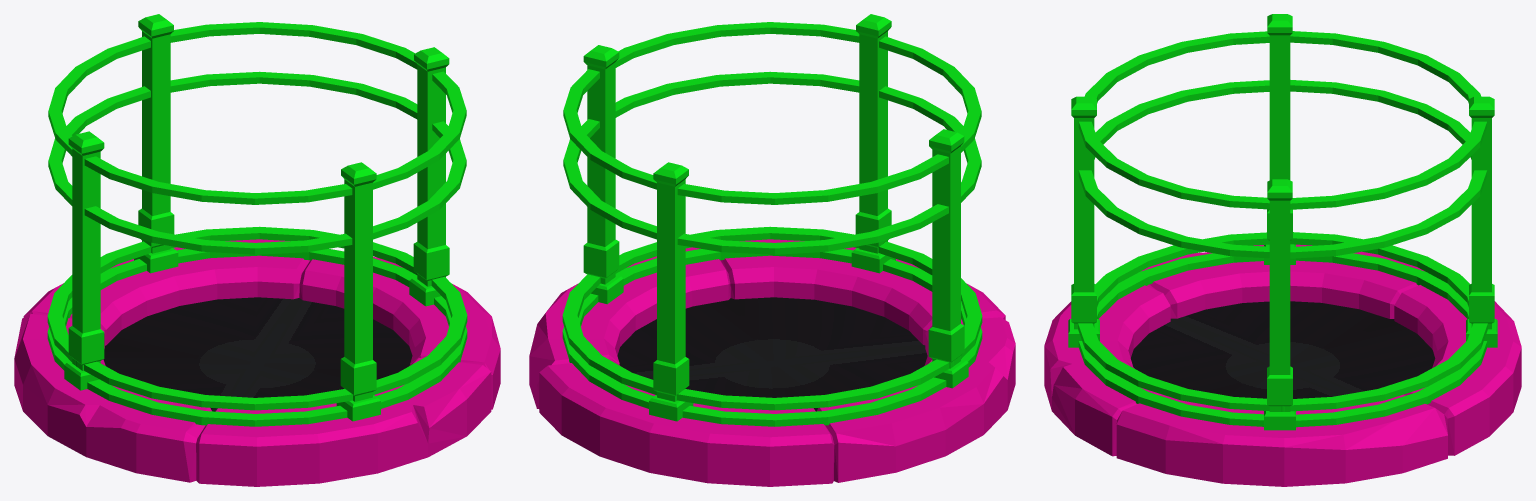
Rendered from City_Fence15.fbx.
3 renders of one model, left to right at view 1: azimuth 30°, elevation 25°; view 2: azimuth 150°, elevation 25°; view 3: azimuth 270°, elevation 25°, orthographic.
Visible parts, largest first — view 1: SM_City_Fence_05_02c.mo; view 2: SM_City_Fence_05_02c.mo; view 3: SM_City_Fence_05_02c.mo.
Boxes of the visible parts, box(x1,y1,x2,y2) form: SM_City_Fence_05_02c.mo: box(14, 14, 500, 486); SM_City_Fence_05_02c.mo: box(529, 14, 1015, 486); SM_City_Fence_05_02c.mo: box(1044, 14, 1521, 486).
Bounding box in the file's own units: 150 × 99.47 × 150.
